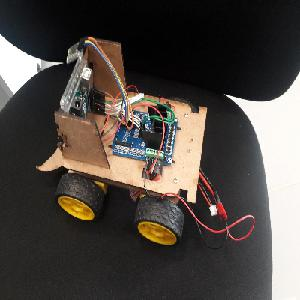Robot: (36, 37, 209, 245)
